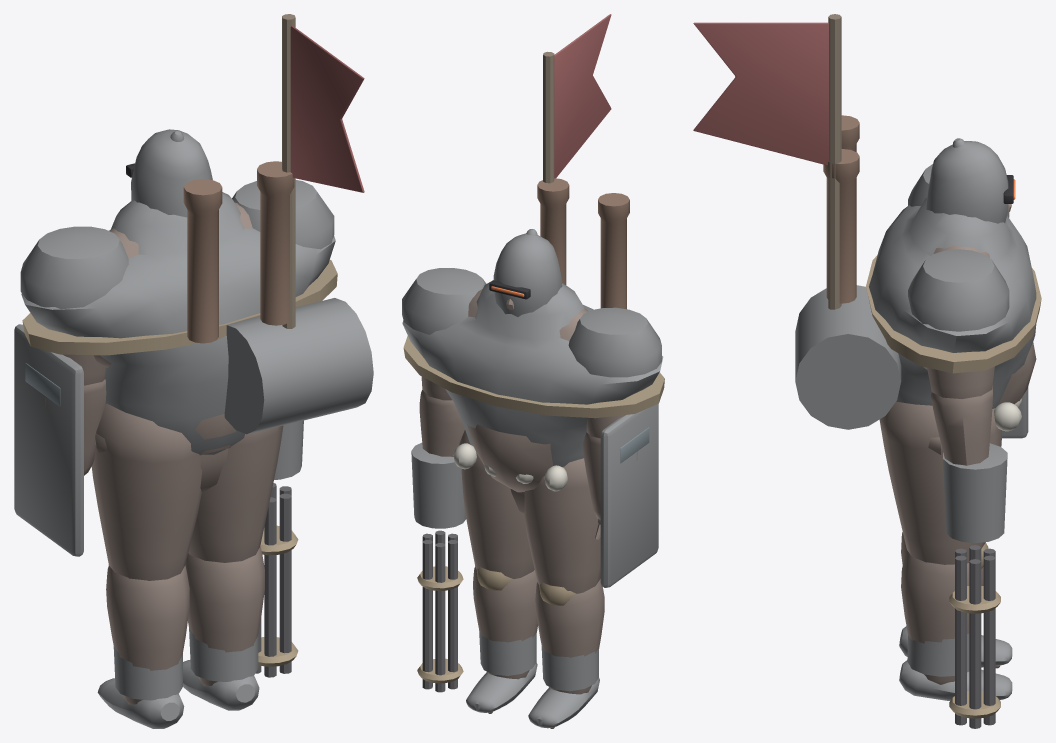
The model's file is en_boss_tyrant.gltf.
3 renders of one model, left to right at view 1: azimuth 30°, elevation 25°; view 2: azimuth 150°, elevation 25°; view 3: azimuth 270°, elevation 25°, orthographic. The views are drawn at different scales.
Parts seen in each view (by area): view 1: Spine, LegL, ForeL, ShinL, V3_Banner, ShinR, V1_Stacks, LegR, ArmL, Barrels, Head, ArmR (+2 smaller); view 2: Spine, ForeL, ShinL, ShinR, LegL, V3_Banner, ForeR, LegR, ArmL, Barrels, V1_Stacks, Head (+2 smaller); view 3: Spine, V3_Banner, ForeR, LegR, ArmR, ShinR, Barrels, Head, V1_Stacks, ShinL, V2_Skulls, ForeL.
Part boxes in pixels (x1,y1,x2,y2): Spine: (21, 192, 373, 455); LegL: (91, 404, 202, 580); ForeL: (14, 324, 106, 556); ShinL: (97, 565, 189, 728); V3_Banner: (282, 14, 364, 328); ShinR: (183, 546, 264, 710); V1_Stacks: (183, 161, 294, 343); LegR: (188, 425, 283, 562); ArmL: (20, 226, 128, 385); Barrels: (255, 483, 298, 677); Head: (126, 129, 212, 217); ArmR: (232, 180, 334, 249); Spine: (402, 280, 664, 492); ForeL: (583, 404, 658, 587); ShinL: (528, 579, 604, 728); ShinR: (466, 566, 537, 713); LegL: (524, 458, 600, 593); V3_Banner: (543, 14, 611, 183); ForeR: (411, 390, 466, 528); LegR: (459, 430, 534, 578); ArmL: (568, 307, 661, 438); Barrels: (417, 530, 463, 692); V1_Stacks: (537, 178, 629, 309); Head: (489, 229, 562, 316); Spine: (795, 198, 1041, 429); V3_Banner: (693, 14, 841, 309); ForeR: (931, 384, 1007, 543); LegR: (879, 401, 1002, 564); ArmR: (908, 249, 1009, 398); ShinR: (899, 542, 1012, 700); Barrels: (949, 545, 1000, 728); Head: (926, 138, 1015, 223); V1_Stacks: (823, 115, 859, 303); ShinL: (899, 532, 1012, 668); V2_Skulls: (994, 398, 1021, 431); ForeL: (1002, 387, 1028, 438).
Size of the model in its own units: 1.01 by 2.29 by 1.05.
